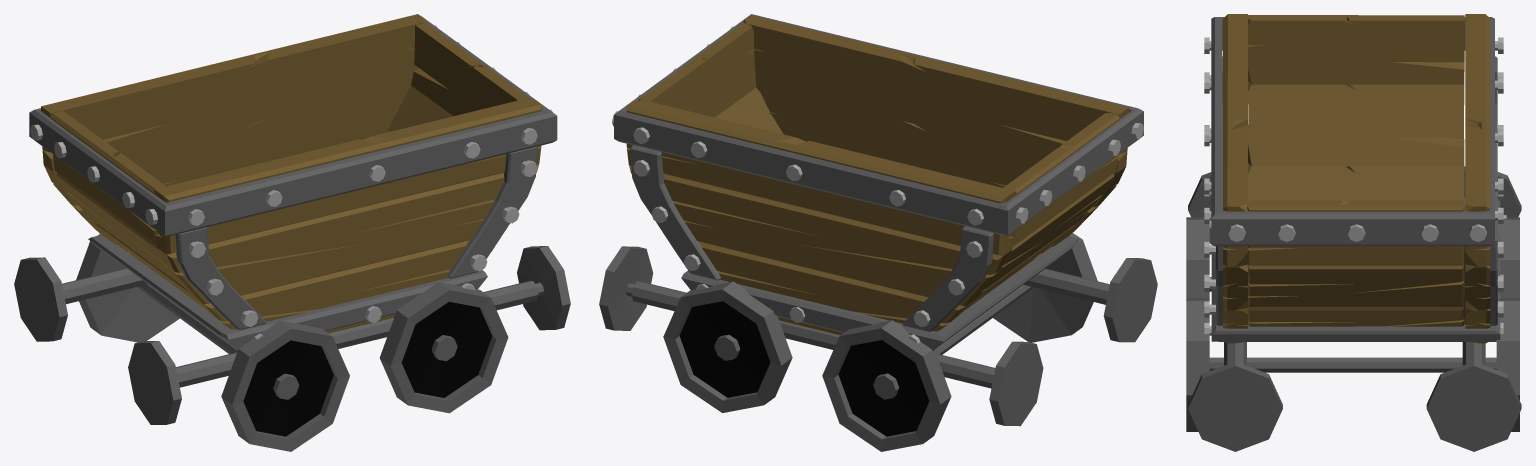
File: vagon_tahta_revize.fbx
3 views of the same model, side by side, from view 1: azimuth 30°, elevation 25°; view 2: azimuth 150°, elevation 25°; view 3: azimuth 270°, elevation 25° (orthographic). The views are drawn at different scales.
Parts seen in each view (by area): view 1: Cylinder.005, Cylinder.007, Cube.006, Cylinder, Cylinder.019; view 2: Cylinder.005, Cylinder.007, Cube.006, Cylinder, Cylinder.019; view 3: Cylinder.005, Cube.006, Cylinder, Cylinder.007, Cylinder.019.
Part boxes in pixels (bbox=[...]): Cylinder.005: bbox=[41, 14, 541, 333]; Cylinder.007: bbox=[76, 234, 508, 451]; Cube.006: bbox=[29, 16, 557, 349]; Cylinder: bbox=[14, 246, 570, 424]; Cylinder.019: bbox=[30, 25, 552, 339]; Cylinder.005: bbox=[626, 15, 1128, 335]; Cylinder.007: bbox=[663, 233, 1097, 451]; Cube.006: bbox=[614, 14, 1143, 351]; Cylinder: bbox=[599, 246, 1157, 426]; Cylinder.019: bbox=[612, 26, 1143, 343]; Cylinder.005: bbox=[1223, 14, 1490, 343]; Cube.006: bbox=[1211, 17, 1500, 341]; Cylinder: bbox=[1188, 166, 1521, 451]; Cylinder.007: bbox=[1186, 217, 1519, 431]; Cylinder.019: bbox=[1204, 37, 1506, 335].
Size of the model in its own units: 817 by 516 by 560.
